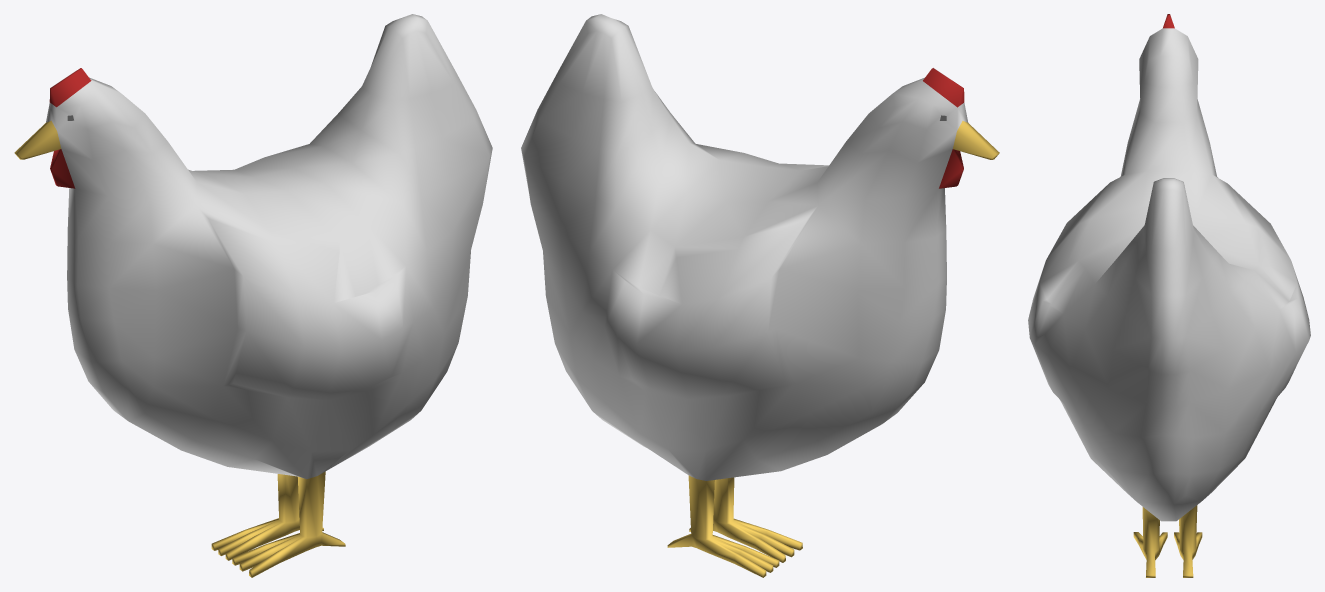
Rendered from chicken.glb.
The picture shows the model from 3 angles, left to right: view 1: azimuth 30°, elevation 25°; view 2: azimuth 150°, elevation 25°; view 3: azimuth 270°, elevation 25°; orthographic projection. The views are drawn at different scales.
Visible parts, largest first — view 1: Chicken; view 2: Chicken; view 3: Chicken.
Boxes of the visible parts, <box> form: Chicken: <box>14,14,492,577</box>; Chicken: <box>521,14,999,577</box>; Chicken: <box>1028,14,1310,577</box>.
Size of the model in its own units: 0.3717 by 0.4005 by 0.2241.
